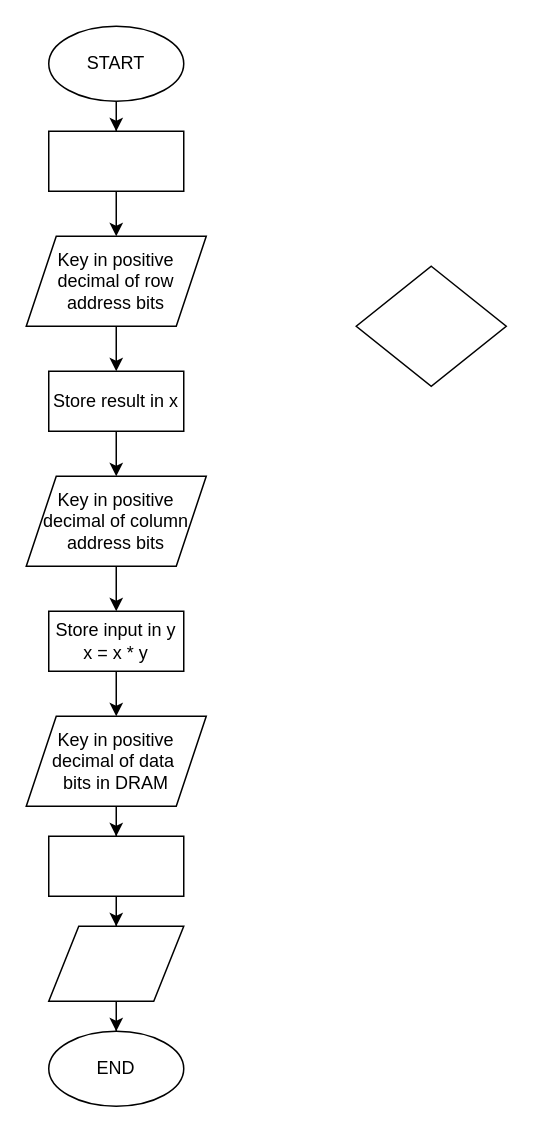
The diagram is 533 pixels wide and 1133 high, and some of its shapes have lost their labels. The shapes that lost their labels are listed below. From the top down, each one's centre as x and y in pixels, then its label:
At point (115, 160): "integer x = 0".
At point (430, 325): "Lamp plugged in?".
At point (115, 865): "Store input in y x = x * y x = x / 8".
At point (115, 963): "Print x".
